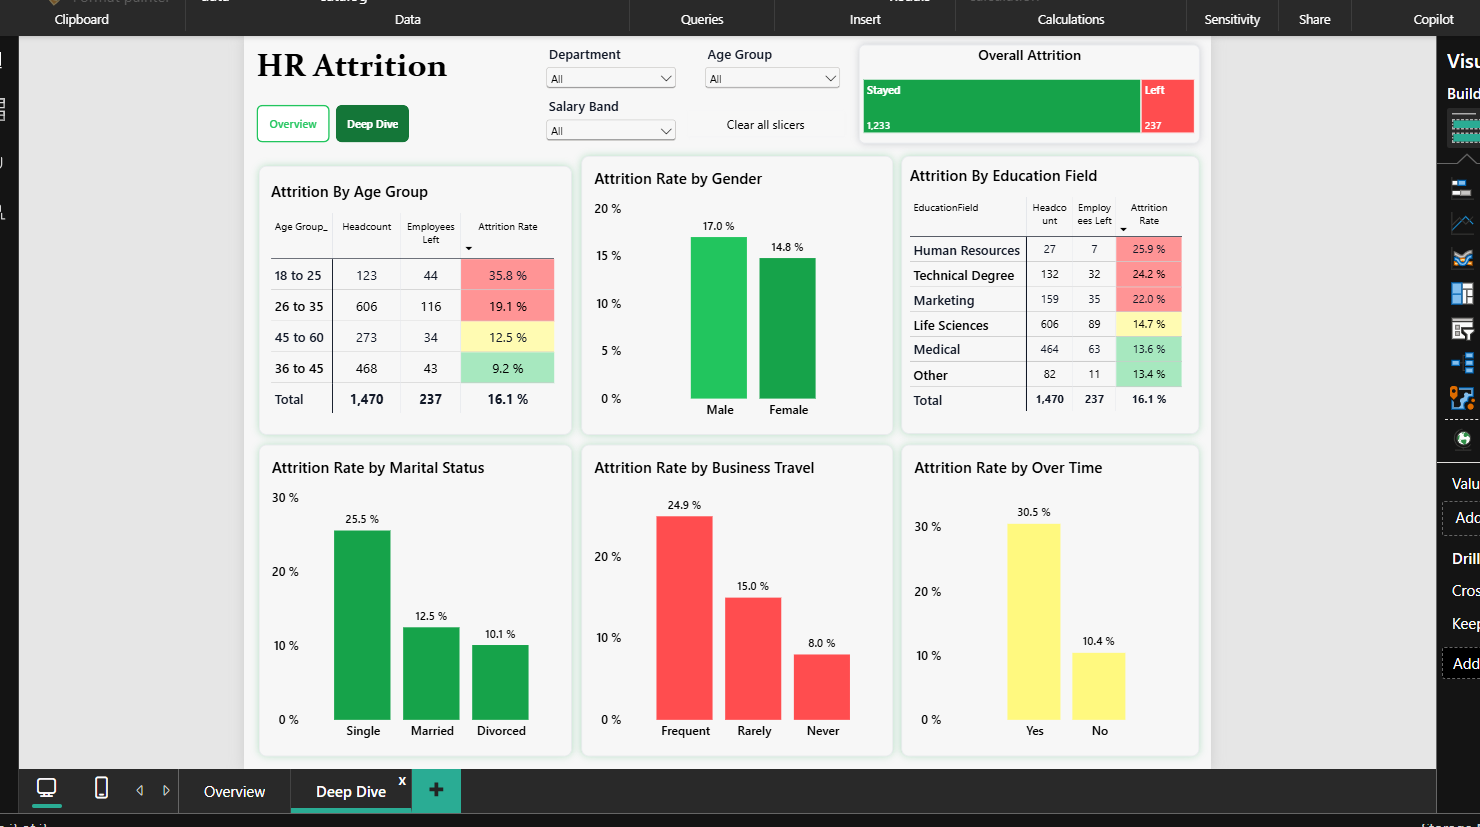

What the dashboard file says about the page in this screenshot:
{"tool":"powerbi","page":{"name":"Deep Dive","canvas":[1280,970],"ordinal":1},"visuals":[{"type":"textbox","box":[15.7,11.4,326,70],"z":0},{"type":"treemap","fields":{"Values":["HR_employees.Employees Left","HR_employees.Employees Stayed"]},"box":[812.9,11.4,450,130],"z":1000},{"type":"slicer","fields":{"Values":["HR_employees.Salary Band"]},"box":[395.7,81.4,181,70.6],"z":2000},{"type":"slicer","fields":{"Values":["HR_employees.Department"]},"box":[395.7,11.4,181,70.6],"z":3000},{"type":"slicer","fields":{"Values":["HR_employees.Age Group_"]},"box":[604.3,11.4,188.6,67.1],"z":4000},{"type":"actionButton","box":[587.1,98.6,206.2,33.8],"z":5000},{"type":"pageNavigator","box":[15.7,91.4,202.9,50],"z":6000},{"type":"columnChart","title":"Attrition Rate by Marital Status","fields":{"Category":["HR_employees.MaritalStatus"],"Y":["HR_employees.Attrition Rate"]},"box":[19.8,540.5,413.3,411.6],"z":7000},{"type":"columnChart","title":"Attrition Rate by Business Travel","fields":{"Category":["HR_employees.ShortTravel"],"Y":["HR_employees.Attrition Rate"]},"box":[446.3,540.5,411.6,411.6],"z":8000},{"type":"columnChart","title":"Attrition Rate by Over Time","fields":{"Category":["HR_employees.OverTime"],"Y":["HR_employees.Attrition Rate"]},"box":[869.5,540.5,393.4,411.6],"z":9000},{"type":"pivotTable","title":"Attrition By Age Group","fields":{"Rows":["HR_employees.Age Group_"],"Values":["HR_employees.Headcount","HR_employees.Employees Left","HR_employees.Attrition Rate"]},"box":[19.8,171.9,413.3,355.4],"z":10000},{"type":"columnChart","title":"Attrition Rate by Gender","fields":{"Category":["HR_employees.Gender"],"Y":["HR_employees.Attrition Rate"]},"box":[446.3,158.7,411.6,368.6],"z":10001},{"type":"pivotTable","title":"Attrition By Education Field","fields":{"Rows":["HR_employees.EducationField"],"Values":["HR_employees.Headcount","HR_employees.Employees Left","HR_employees.Attrition Rate"]},"box":[869.5,158.7,393.4,367],"z":10002}]}

Visuals, with their boxes on the page's 1280x970 design canvas (x1, y1, x2, y2). These are canvas units, not pixel positions in the 1480x827 screenshot, which may show the page scaled, cropped or inside an application window:
textbox: (left=16, top=11, right=342, bottom=81)
treemap - HR_employees.Employees Left x HR_employees.Employees Stayed: (left=813, top=11, right=1263, bottom=141)
slicer - HR_employees.Salary Band: (left=396, top=81, right=577, bottom=152)
slicer - HR_employees.Department: (left=396, top=11, right=577, bottom=82)
slicer - HR_employees.Age Group_: (left=604, top=11, right=793, bottom=78)
actionButton: (left=587, top=99, right=793, bottom=132)
pageNavigator: (left=16, top=91, right=219, bottom=141)
"Attrition Rate by Marital Status" columnChart: (left=20, top=540, right=433, bottom=952)
"Attrition Rate by Business Travel" columnChart: (left=446, top=540, right=858, bottom=952)
"Attrition Rate by Over Time" columnChart: (left=870, top=540, right=1263, bottom=952)
"Attrition By Age Group" pivotTable: (left=20, top=172, right=433, bottom=527)
"Attrition Rate by Gender" columnChart: (left=446, top=159, right=858, bottom=527)
"Attrition By Education Field" pivotTable: (left=870, top=159, right=1263, bottom=526)
